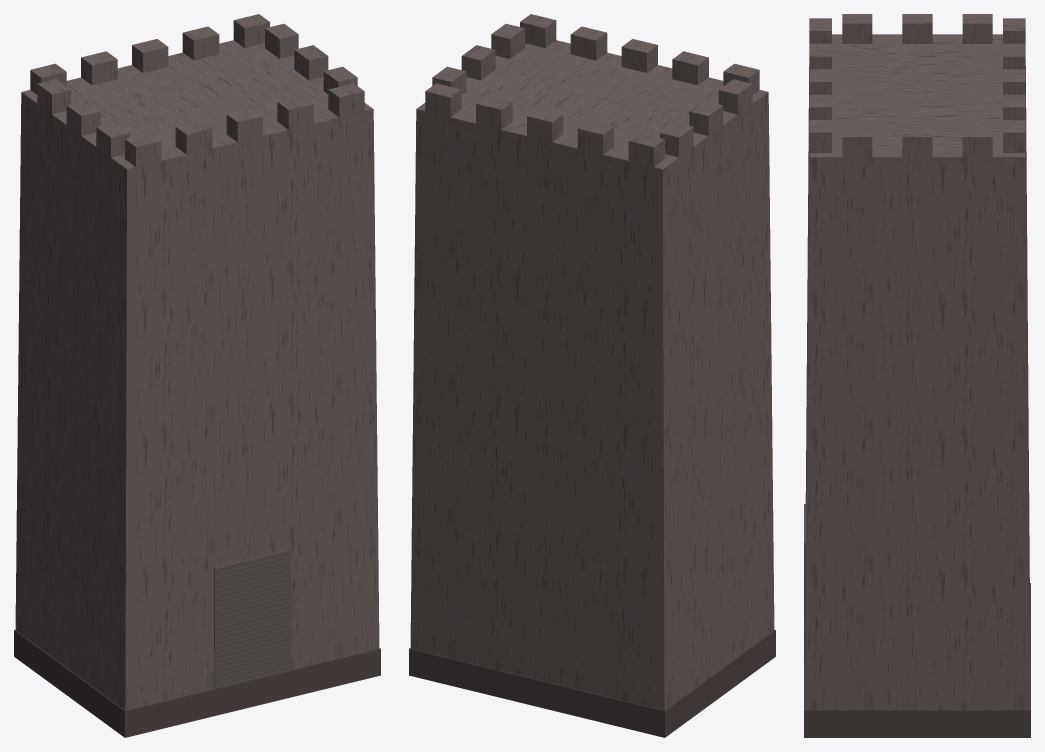
The model's file is SM_Souq_Warehouse_W4D30_Crenel.fbx.
The picture shows the model from 3 angles, left to right: view 1: azimuth 30°, elevation 25°; view 2: azimuth 150°, elevation 25°; view 3: azimuth 270°, elevation 25°; orthographic projection. The views are drawn at different scales.
Visible parts, largest first — view 1: SM_Souq_Warehouse_W4D30_Crenel; view 2: SM_Souq_Warehouse_W4D30_Crenel; view 3: SM_Souq_Warehouse_W4D30_Crenel.
Boxes of the visible parts, x1,y1,x2,y2 form: SM_Souq_Warehouse_W4D30_Crenel: [14, 14, 380, 737]; SM_Souq_Warehouse_W4D30_Crenel: [409, 14, 775, 737]; SM_Souq_Warehouse_W4D30_Crenel: [804, 14, 1030, 737].
Bounding box in the file's own units: 402 × 880 × 302.
3 materials, 3 textured.
